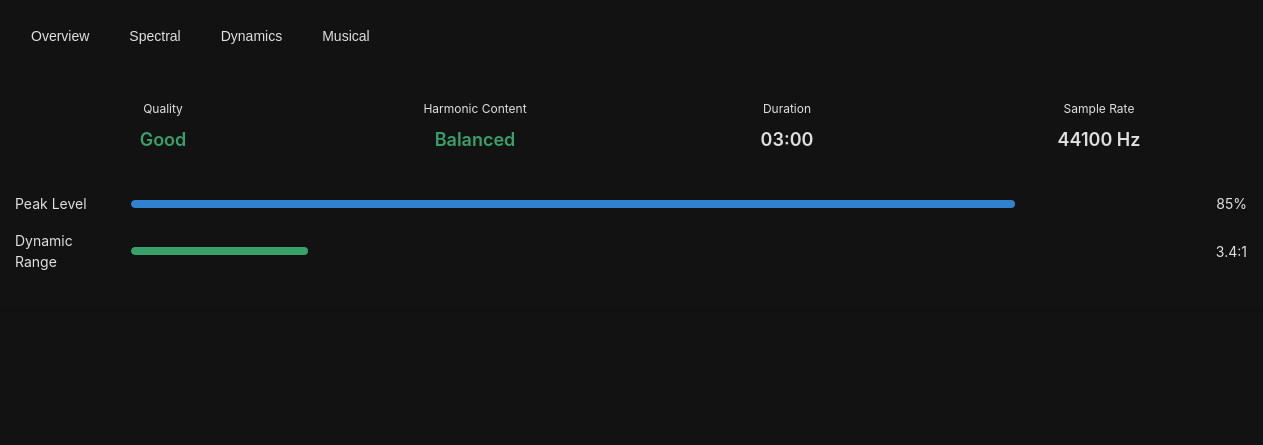
AudioAnalysisDisplay Component › switches to spectral tab when clicked
Click the button "Spectral" at coordinates (155, 36), box [113,16,197,56]
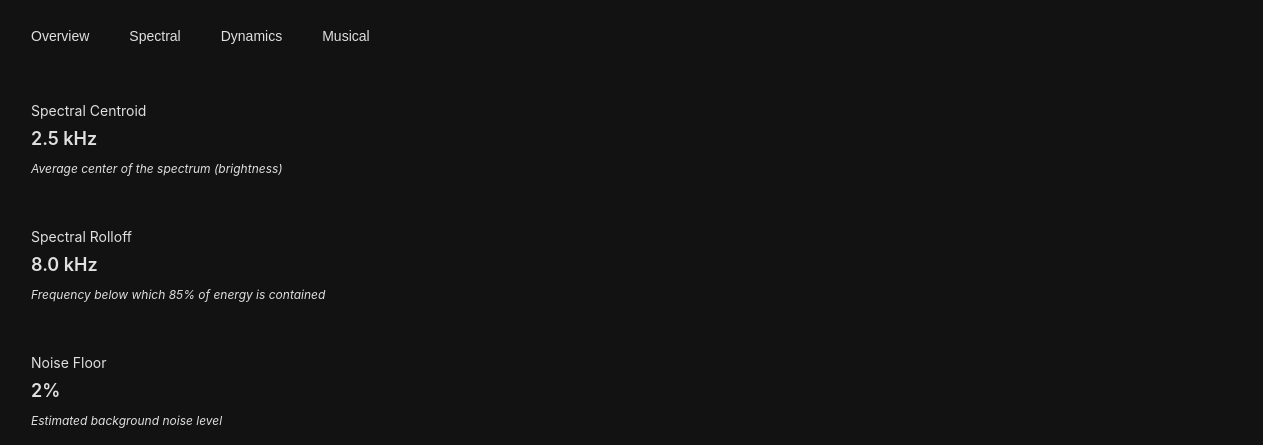
Now the text "Spectral Centroid" is shown, box [31,102,146,119]
Now the text "Spectral Rolloff" is shown, box [31,228,132,245]
Now the text "Noise Floor" is shown, box [31,354,106,371]
